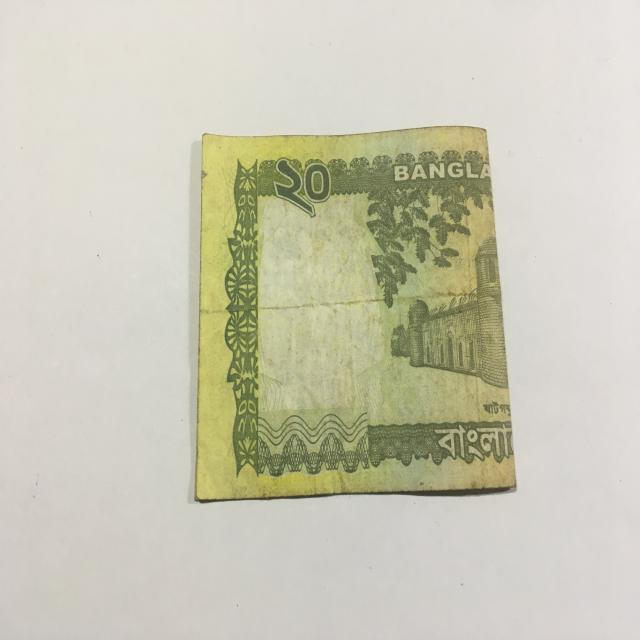Taka: (190, 114, 520, 500)
